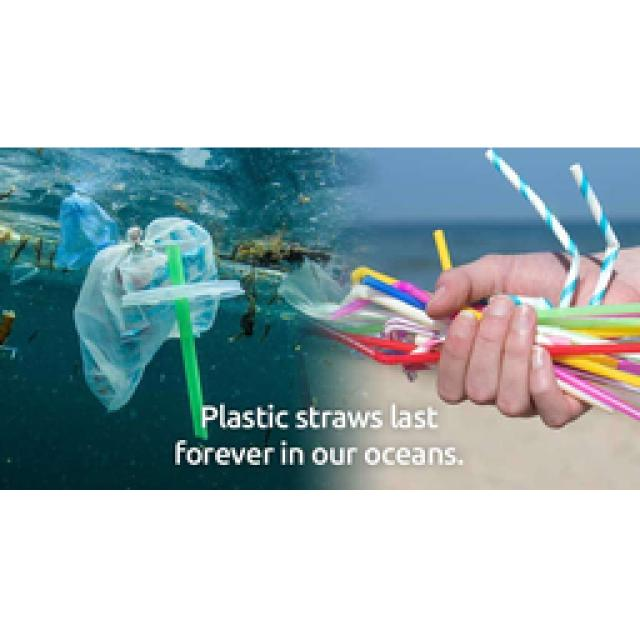plastic: (485, 150, 638, 418), (310, 268, 442, 378), (172, 295, 202, 435), (170, 240, 188, 288)
